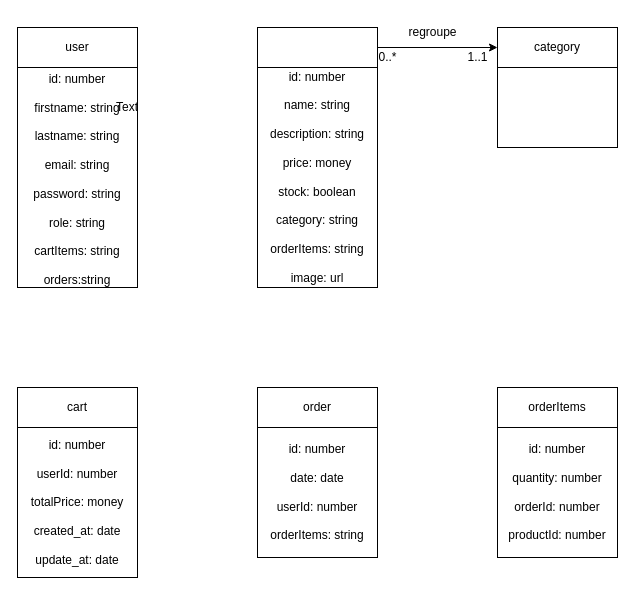
The diagram is 635 pixels wide and 595 high, and some of its shapes have lost their labels. The centre of each missing label's shape, as x and y in pixels:
"id: number name: string product: string" belongs at point 557,107.
"products" belongs at point 317,47.
